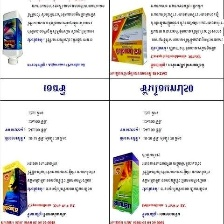book: (106, 5, 148, 67)
carton: (110, 150, 141, 215), (0, 157, 30, 218)
insecticide: (0, 7, 24, 65)
